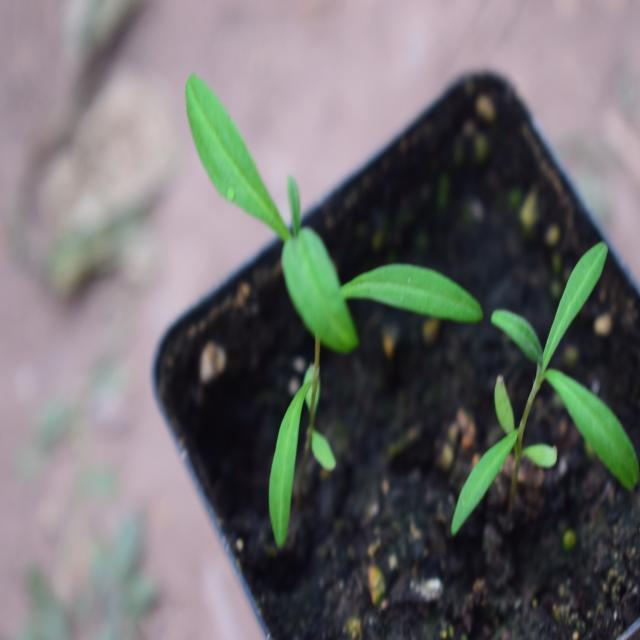white_smart_weed: (175, 81, 453, 479), (457, 242, 633, 518)
